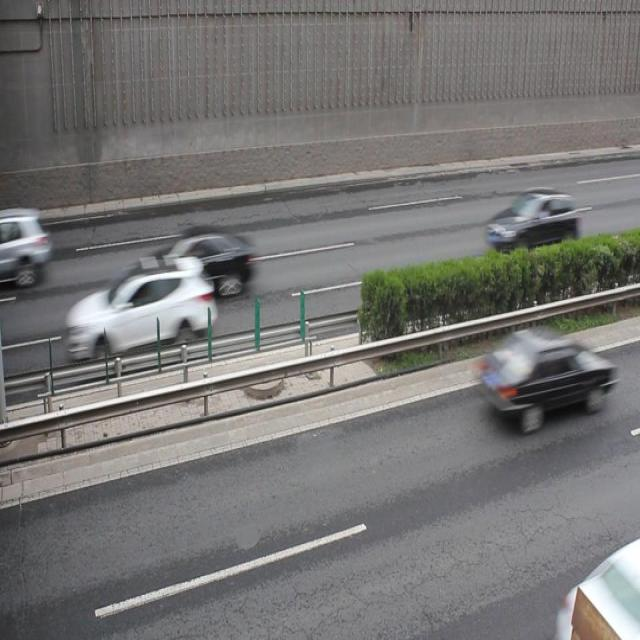car: (65, 255, 215, 358), (478, 325, 609, 429), (145, 226, 255, 300), (556, 554, 640, 640), (485, 189, 578, 251), (0, 216, 50, 277)
